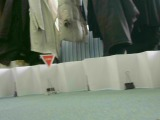stop: (39, 54, 56, 70)
